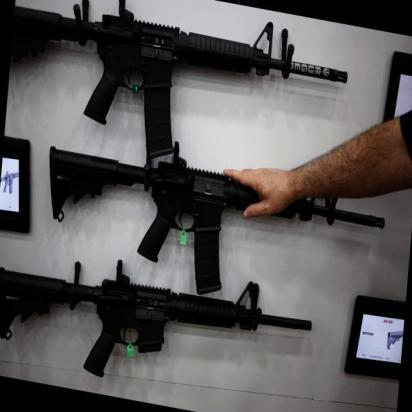Gun: (30, 130, 390, 324), (0, 239, 323, 412), (11, 0, 354, 149)
